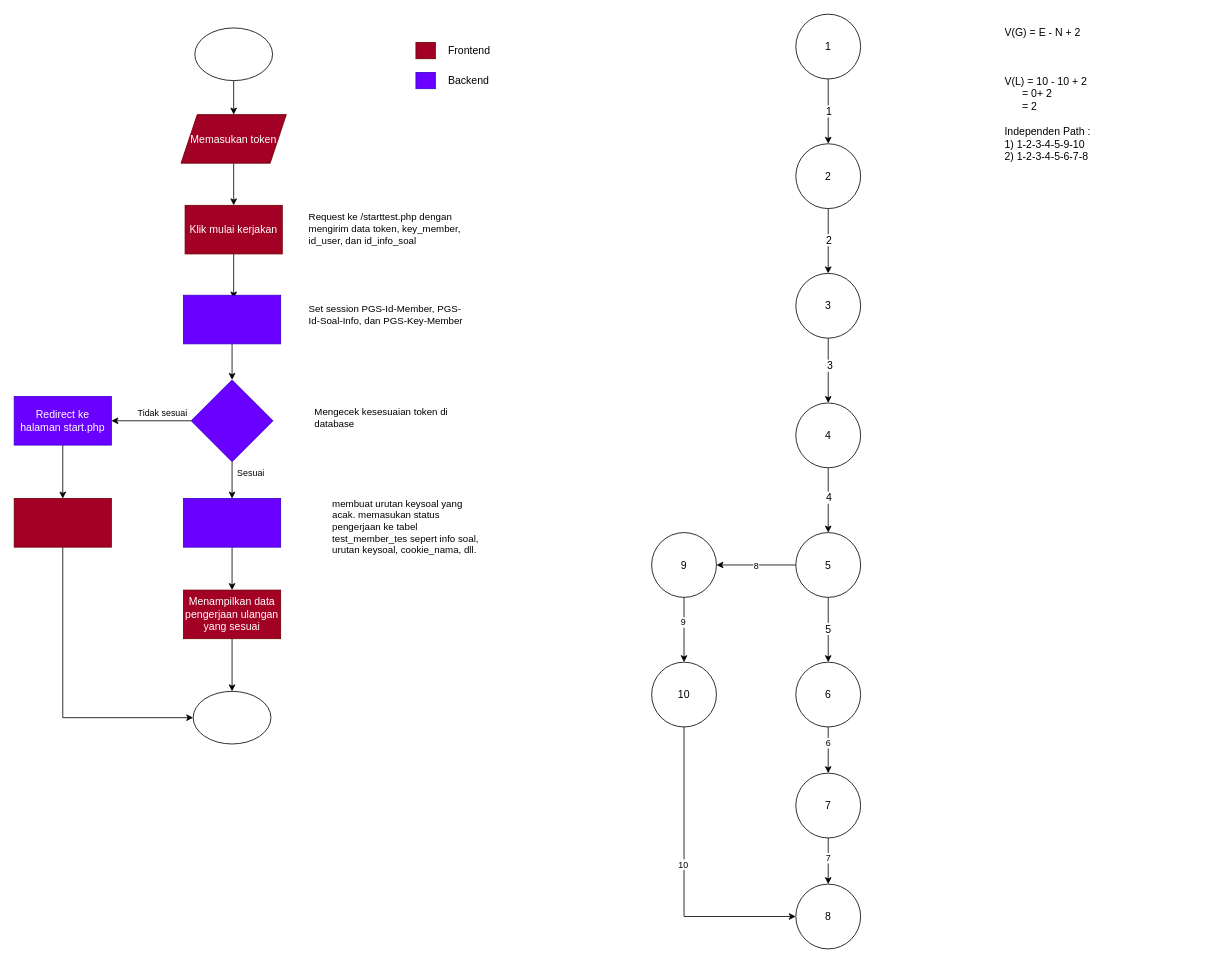
Some shapes in this 1224 by 963 pixel diagram are drawn without their labels. The shapes that lost their labels are listed below. From the top down, each one's centre as x and y in pixels, then its label:
At pixel 233 54: "Mulai".
At pixel 232 319: "Set session".
At pixel 231 420: "Cek token".
At pixel 62 522: "Menampilkan data ulangan yang sesuai".
At pixel 232 522: "Insert ke test_member_tes dan redirect ke halaman test.php".
At pixel 231 717: "Selesai".
